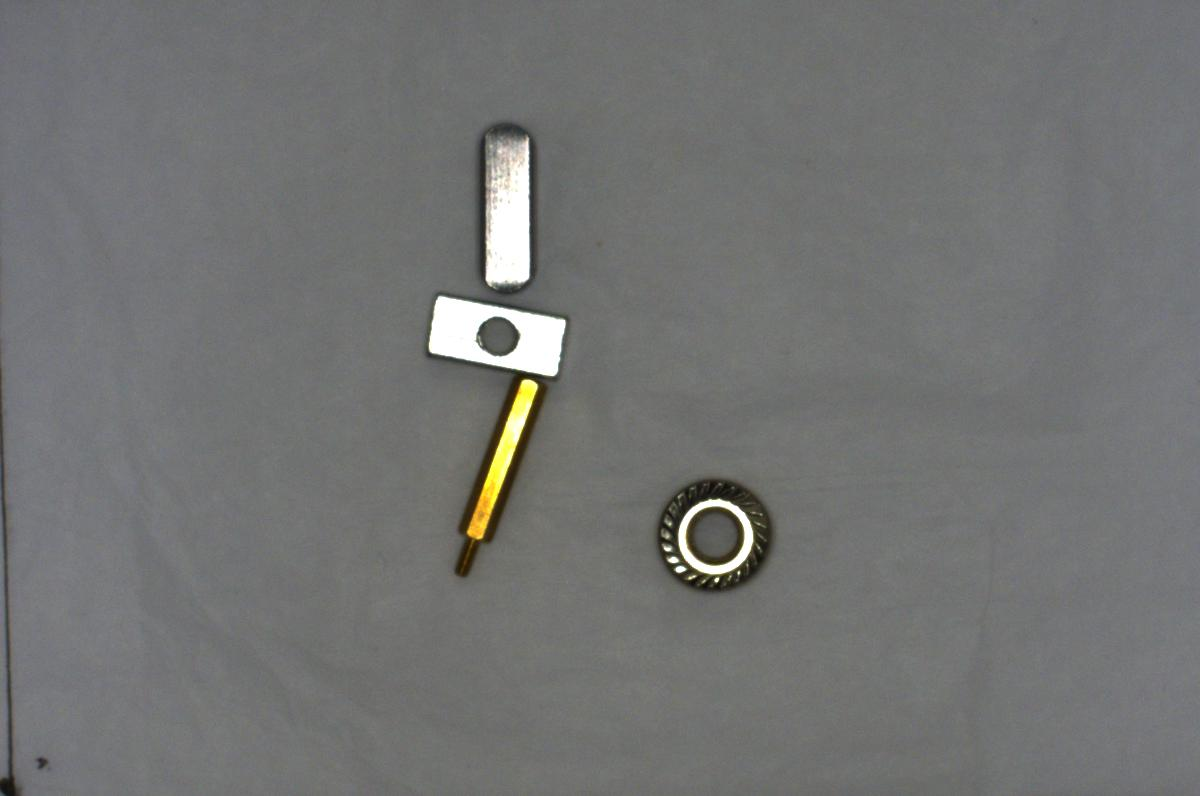Flange nut: (650, 467, 786, 603)
Hexagon pillar: (446, 374, 548, 588)
Keybar: (472, 116, 548, 300)
Rectangular nut: (421, 288, 574, 381)
